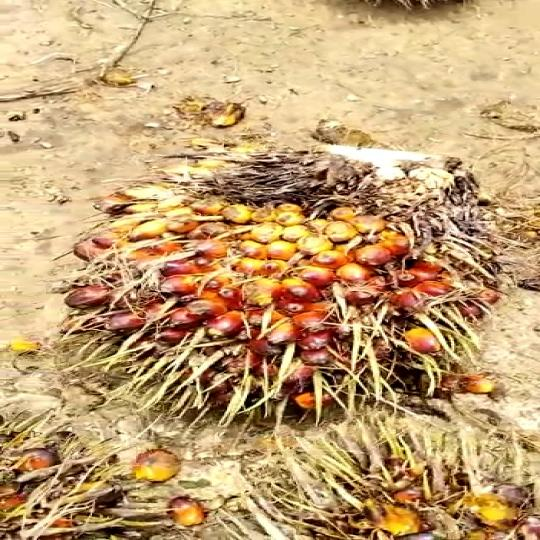masak: (66, 135, 503, 436)
